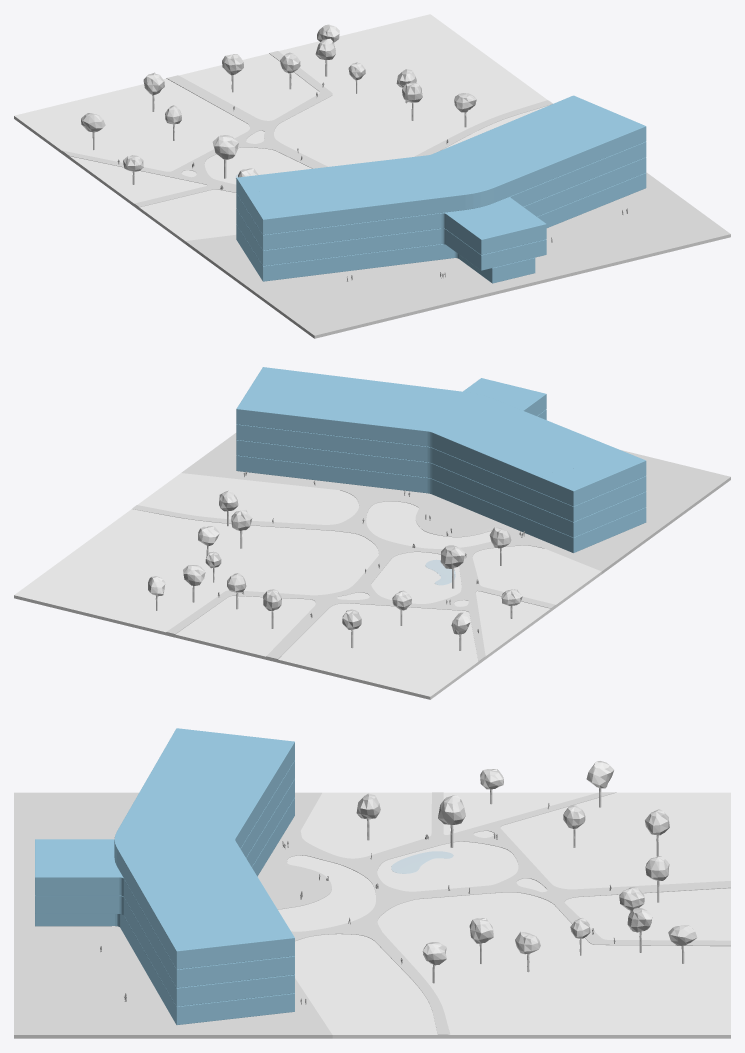
File: campus_lighted.gltf
3 renders of one model, top to bottom at view 1: azimuth 30°, elevation 25°; view 2: azimuth 150°, elevation 25°; view 3: azimuth 270°, elevation 25°, orthographic. The views are drawn at different scales.
Visible parts, largest first — view 1: park, building_base, floor_3, floor_2, floor_1, floor_0, paths_Retopo, trees, corner_room; view 2: park, floor_3, paths_Retopo, building_base, floor_2, floor_1, floor_0, trees, corner_room; view 3: park, floor_3, building_base, paths_Retopo, floor_2, trees, floor_1, floor_0, corner_room, Lake_Retopo_Retopo.
Boxes of the visible parts, box(x1,y1,x2,y2) form: park: box(14, 14, 549, 243); building_base: box(185, 172, 730, 338); floor_3: box(246, 95, 646, 234); floor_2: box(236, 141, 646, 254); floor_1: box(236, 157, 646, 270); floor_0: box(236, 173, 646, 283); paths_Retopo: box(62, 51, 552, 207); trees: box(81, 24, 476, 184); corner_room: box(236, 172, 291, 207); park: box(14, 473, 601, 699); floor_3: box(236, 367, 646, 494); paths_Retopo: box(132, 490, 555, 661); building_base: box(181, 433, 730, 574); floor_2: box(236, 378, 646, 521); floor_1: box(236, 409, 646, 537); floor_0: box(236, 455, 646, 552); trees: box(148, 490, 522, 650); corner_room: box(540, 466, 600, 506); park: box(278, 792, 730, 1038); floor_3: box(114, 728, 294, 969); building_base: box(14, 792, 332, 1038); paths_Retopo: box(266, 792, 730, 1034); floor_2: box(35, 760, 294, 987); trees: box(356, 761, 697, 983); floor_1: box(35, 779, 294, 1006); floor_0: box(35, 797, 294, 1024); corner_room: box(237, 736, 294, 781); Lake_Retopo_Retopo: box(391, 851, 453, 873).
Bounding box in the file's own units: 2.8 × 0.42 × 3.5.
